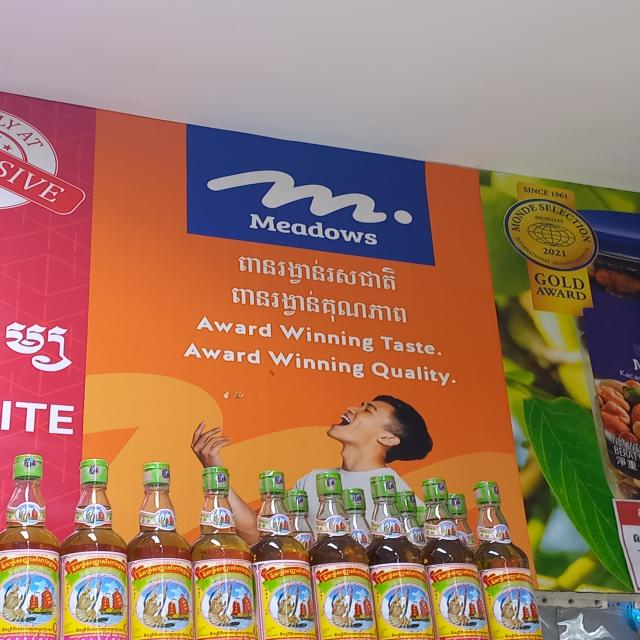Yolov11_80vkh: (222, 279, 417, 328), (236, 247, 406, 297)
